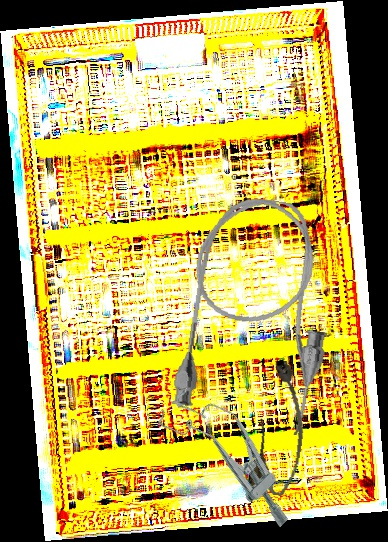Cannula: (168, 190, 345, 438), (247, 358, 315, 498)
Speculum: (152, 375, 315, 537)
